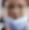mask_weared_incorrect: (2, 1, 29, 30)
